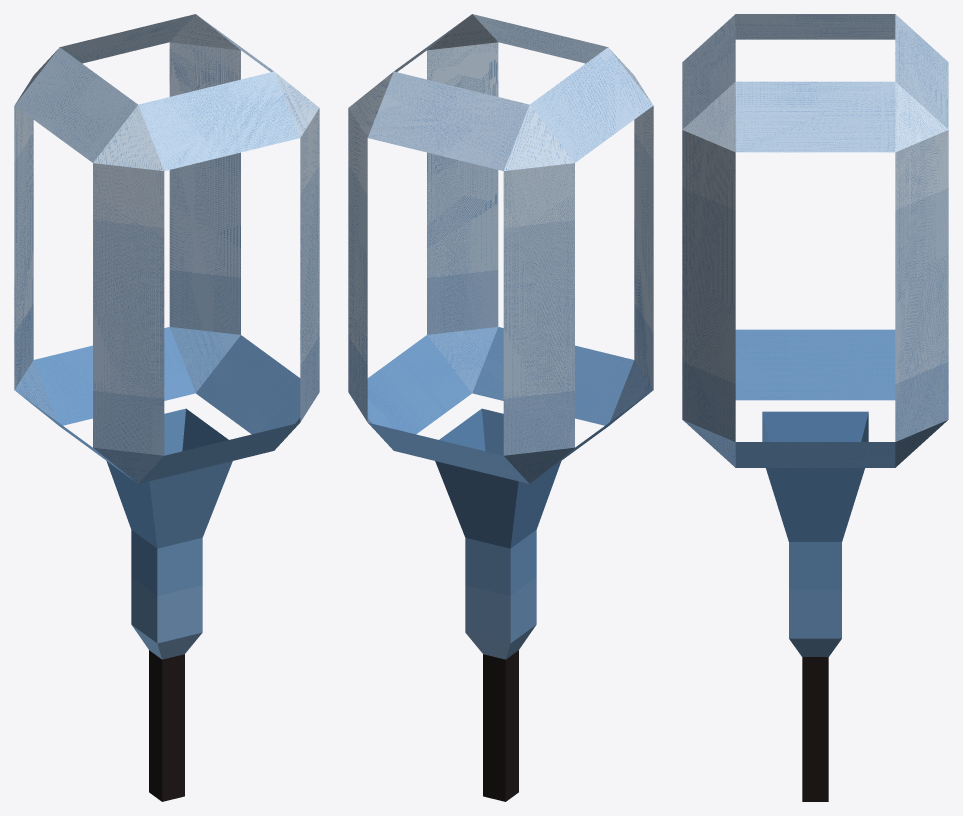
The model's file is standing_retort_inventory.obj.
The picture shows the model from 3 angles, left to right: view 1: azimuth 30°, elevation 25°; view 2: azimuth 150°, elevation 25°; view 3: azimuth 270°, elevation 25°; orthographic projection.
Parts seen in each view (by area): view 1: STANDING_RETORT_BULB_Cube.019; view 2: STANDING_RETORT_BULB_Cube.019; view 3: STANDING_RETORT_BULB_Cube.019.
Part boxes in pixels (x1,y1,x2,y2): STANDING_RETORT_BULB_Cube.019: [14, 14, 319, 801]; STANDING_RETORT_BULB_Cube.019: [348, 14, 653, 801]; STANDING_RETORT_BULB_Cube.019: [682, 14, 948, 801].
Size of the model in its own units: 0.3125 by 0.9688 by 0.3125.
